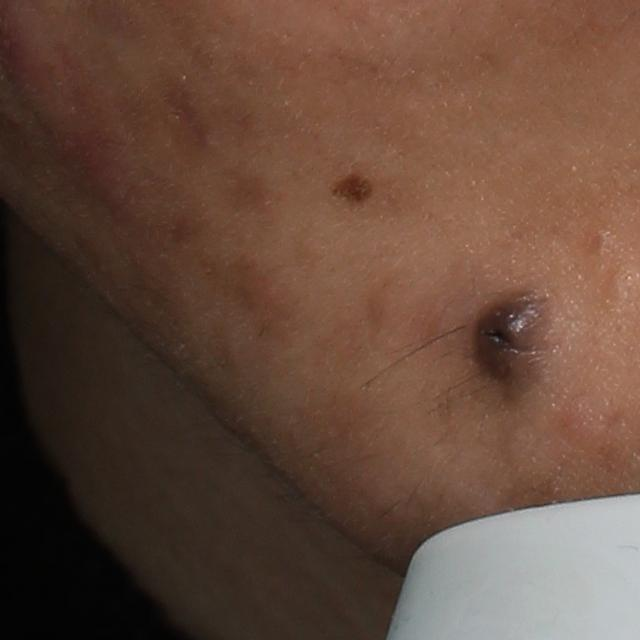nevus: (452, 287, 553, 400), (321, 169, 381, 213)
